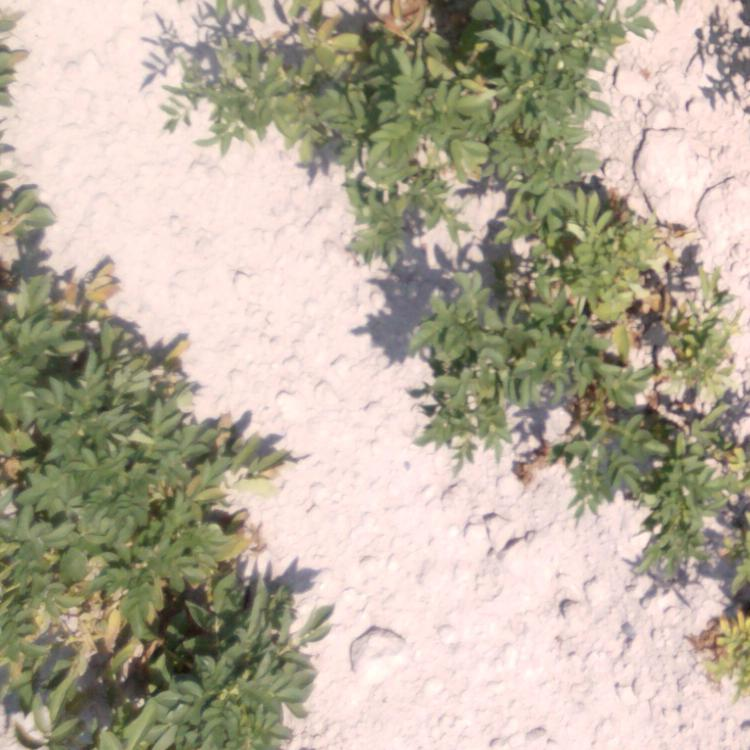healthy: (482, 1, 607, 157), (1, 375, 129, 521)
stressed: (1, 529, 293, 745), (153, 1, 470, 140), (556, 373, 750, 593), (513, 260, 745, 369), (297, 136, 462, 267), (136, 372, 264, 528), (472, 163, 673, 256), (1, 271, 190, 355), (421, 288, 514, 425), (1, 18, 54, 247), (683, 599, 750, 686)
